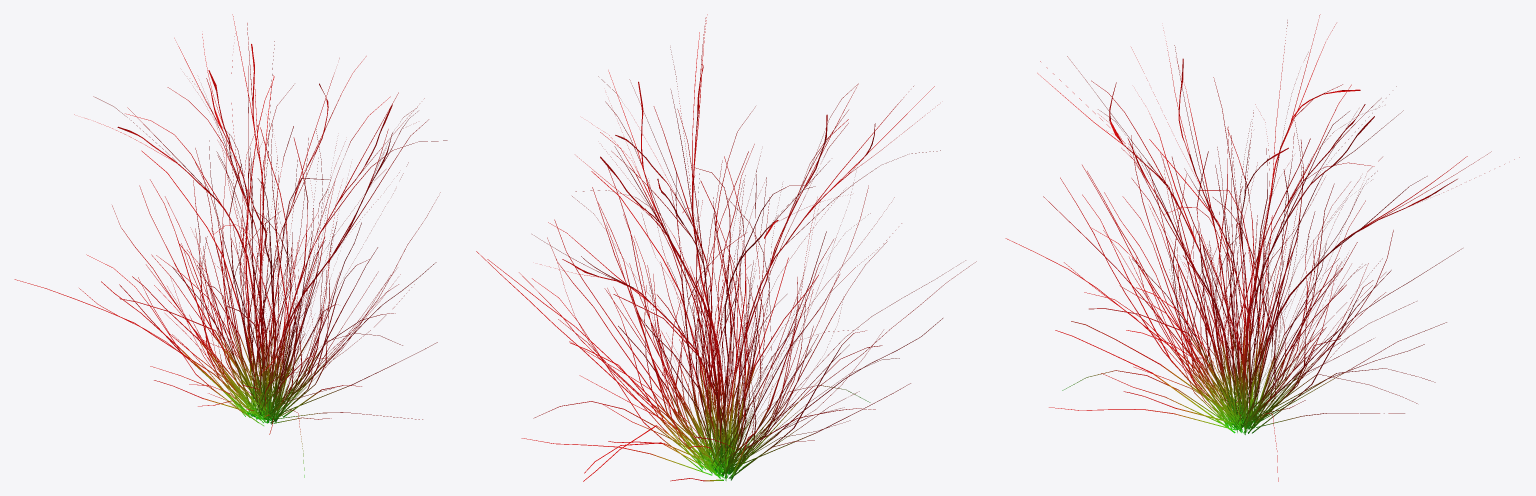
The model's file is Xeric Grass_LOD2_Var8_xjfgdhaqx.fbx.
3 renders of one model, left to right at view 1: azimuth 30°, elevation 25°; view 2: azimuth 150°, elevation 25°; view 3: azimuth 270°, elevation 25°, orthographic. The views are drawn at different scales.
Parts seen in each view (by area): view 1: _acla_Var8_LOD2; view 2: _acla_Var8_LOD2; view 3: _acla_Var8_LOD2.
Part boxes in pixels (x1,y1,x2,y2): _acla_Var8_LOD2: [14, 14, 447, 477]; _acla_Var8_LOD2: [476, 14, 976, 481]; _acla_Var8_LOD2: [1005, 14, 1519, 481].
Bounding box in the file's own units: 375 × 325 × 421.
